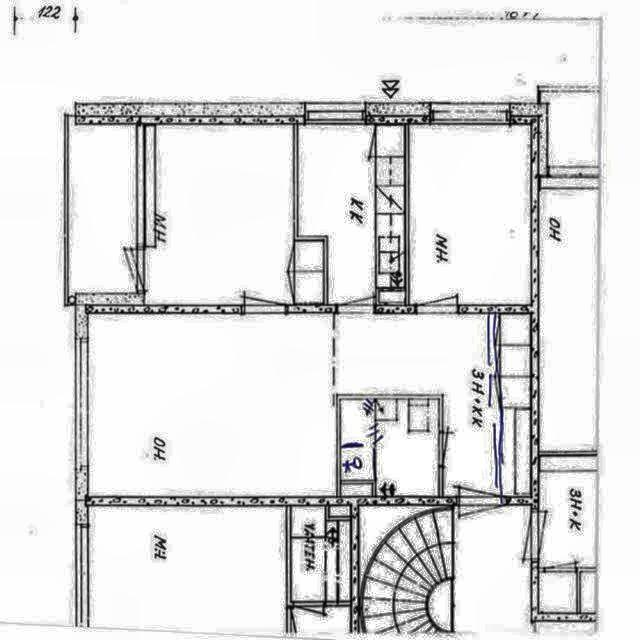room: (143, 124, 324, 304), (409, 124, 530, 305), (298, 123, 405, 305), (340, 400, 439, 497), (291, 505, 351, 602)
